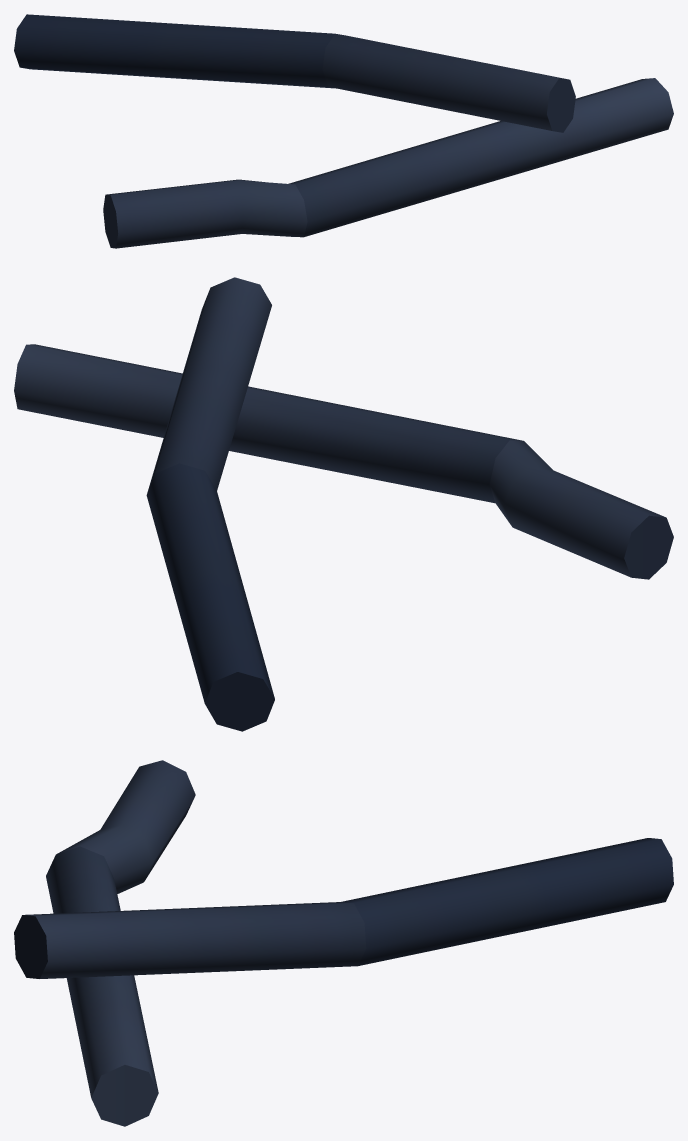
The model's file is Debris 01.FBX.
3 renders of one model, top to bottom at view 1: azimuth 30°, elevation 25°; view 2: azimuth 150°, elevation 25°; view 3: azimuth 270°, elevation 25°, orthographic. The views are drawn at different scales.
Visible parts, largest first — view 1: Debris 01; view 2: Debris 01; view 3: Debris 01.
Boxes of the visible parts, box(x1,y1,x2,y2) form: Debris 01: box(14, 14, 673, 248); Debris 01: box(14, 277, 673, 731); Debris 01: box(14, 760, 673, 1126).
Size of the model in its own units: 187 by 38.84 by 168.
1 material, 1 textured.
